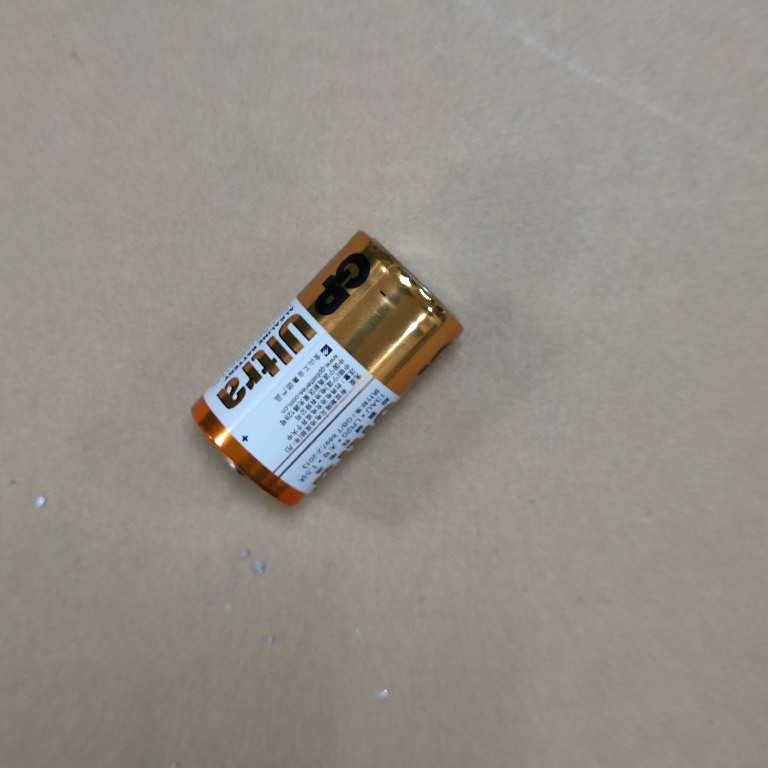charge: (184, 221, 468, 507)
